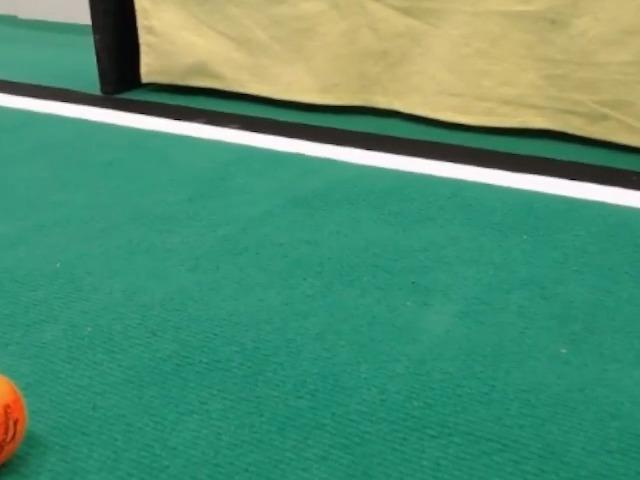Ball: (0, 374, 26, 465)
